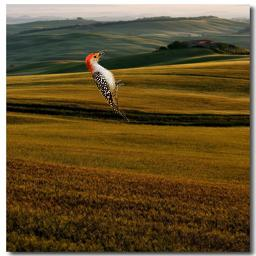Woodpecker: (85, 49, 129, 123)
